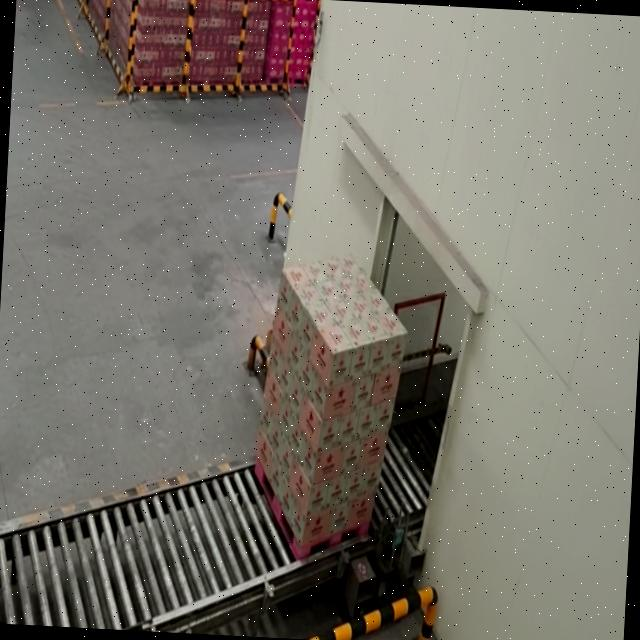pallet: (245, 248, 418, 575)
